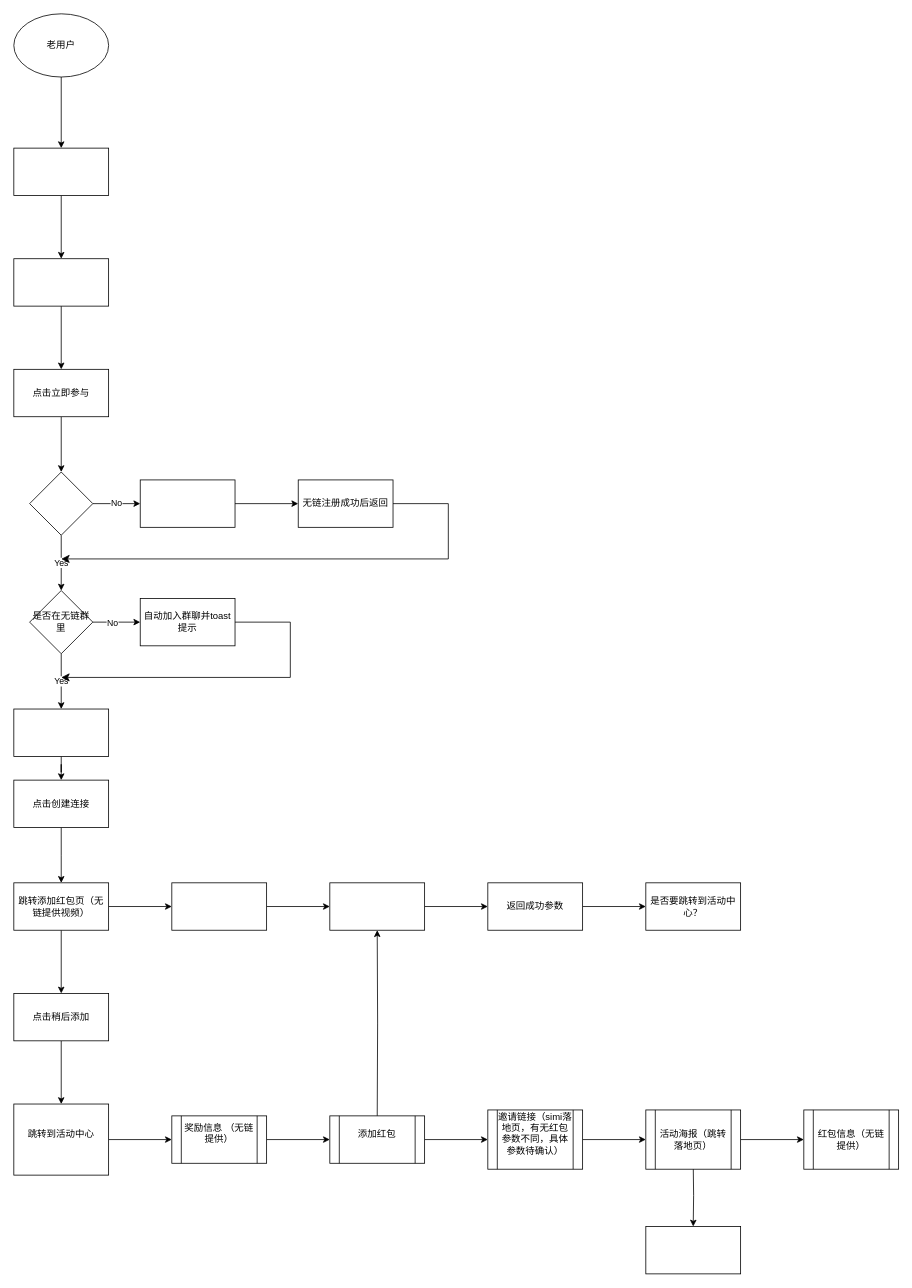
Some shapes in this 912 by 1288 pixel diagram are drawn without their labels. Here are the shapes that lost their labels. From the top down, the centre of each, then its label:
[61,171]: 显示活动弹窗
[61,282]: 展示视频和描述信息（无链提供）
[61,503]: 是否有无链id
[187,503]: 跳转无链落地页
[61,732]: 跳转生成链接页（无链提供剩余dw20数量）
[219,906]: 点击现在添加
[377,906]: 跳转无链sdk添加红包页面
[693,1250]: 跳转smi落地页
